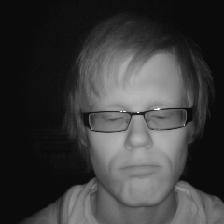sad: (64, 15, 205, 203)
